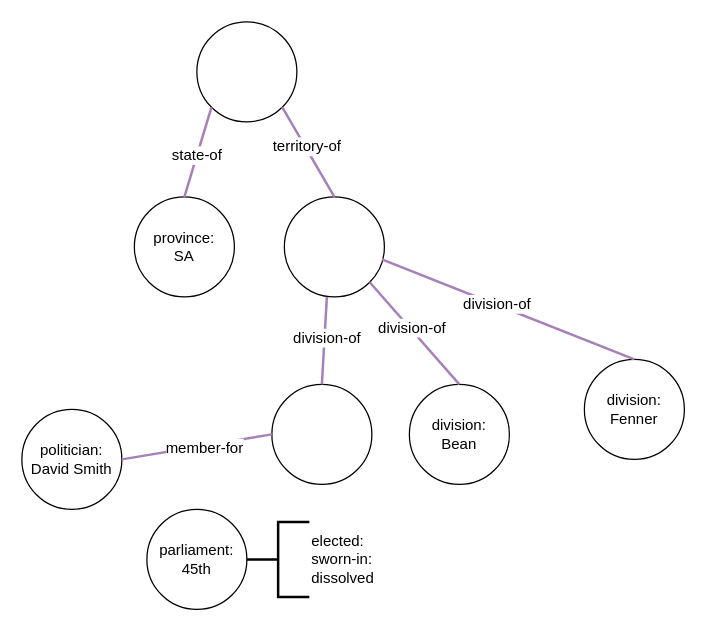
Image size: 706x631. Some labels were removed from this diagram. Each missing label, with the box of its shape:
country: Australia: (196, 21, 297, 122)
division: Canberra: (271, 383, 372, 484)
province: ACT: (283, 196, 384, 297)
